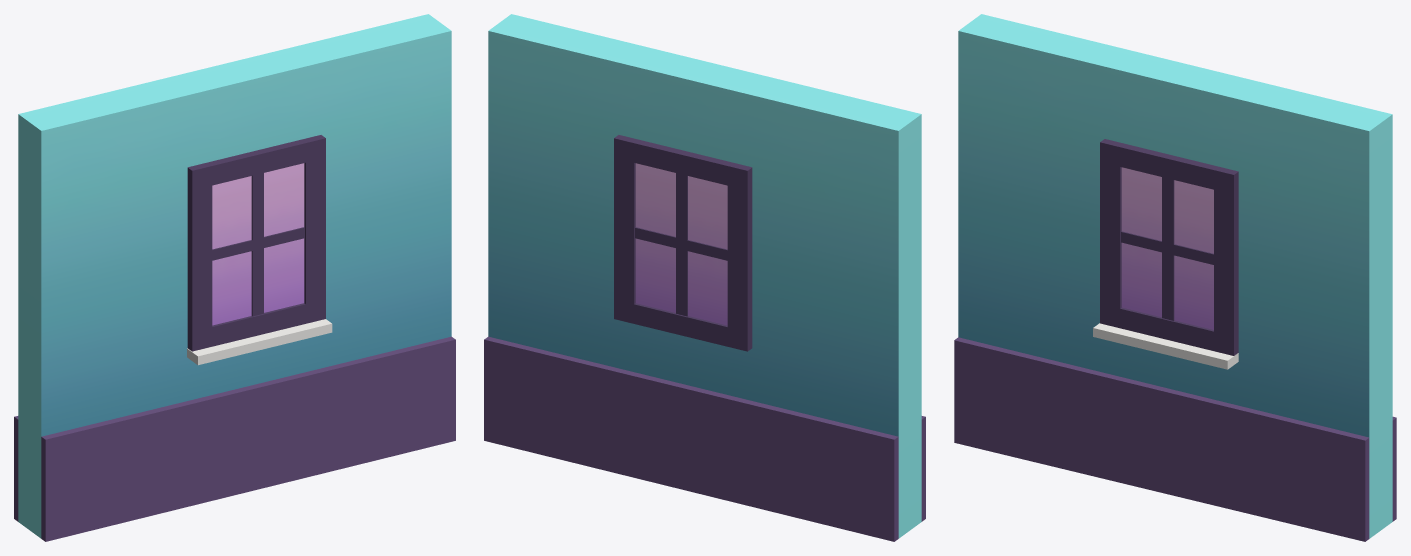
File: M1_Wall_02_3.fbx
3 views of the same model, side by side, from view 1: azimuth 30°, elevation 25°; view 2: azimuth 150°, elevation 25°; view 3: azimuth 330°, elevation 25° (orthographic).
Parts seen in each view (by area): view 1: M1_Wall_02_3; view 2: M1_Wall_02_3; view 3: M1_Wall_02_3.
Part boxes in pixels (x1=…): M1_Wall_02_3: x1=14, y1=14, x2=455, y2=541; M1_Wall_02_3: x1=484, y1=14, x2=925, y2=541; M1_Wall_02_3: x1=954, y1=14, x2=1396, y2=541.
Bounding box in the file's own units: 400 × 380 × 65.72.
